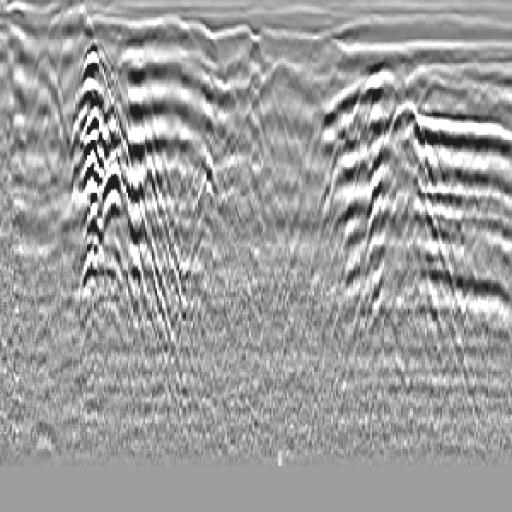metalic: (78, 144, 180, 350), (64, 24, 122, 369)
non-metallic: (317, 48, 445, 334)
